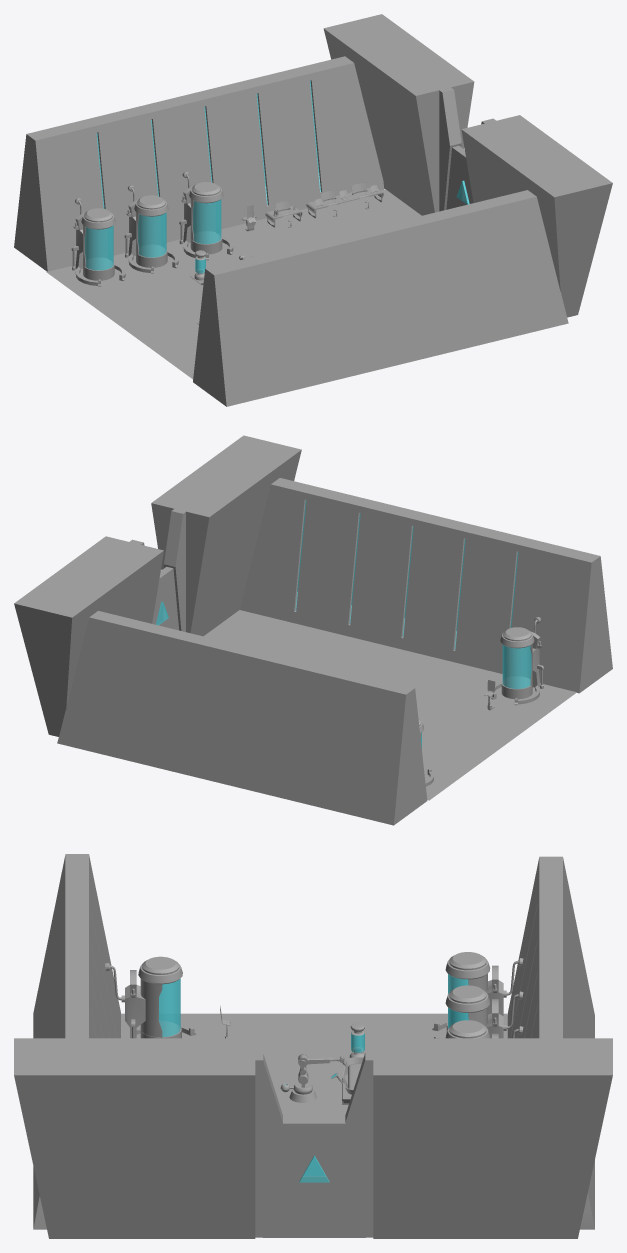
Rendered from L1_RM3_Models with UVs.fbx.
3 renders of one model, top to bottom at view 1: azimuth 30°, elevation 25°; view 2: azimuth 150°, elevation 25°; view 3: azimuth 270°, elevation 25°, orthographic. The views are drawn at different scales.
Visible parts, largest first — view 1: L1_RM3_walls_right, L1_RM3_walls_left, L1_RM3_door_left_wall3, L1_RM03_ground, L1_RM3_door_right_wall2, L1_RM3_cultivation_tanks_style06_cultivation_tanks_style06_f (×3), L1_RM3_cultivation_tanks_style06_glass (×3), L1_RM3_door_left1, L1_RM3_walls_light, L1_RM3_table_style03_table; view 2: L1_RM3_walls_left, L1_RM3_walls_right, L1_RM03_ground, L1_RM3_door_right_wall2, L1_RM3_door_left_wall3, L1_RM3_cultivation_tanks_style06_cultivation_tanks_style06_f, L1_RM3_cultivation_tanks_style06_glass, L1_RM3_door_right1, L1_RM3_walls_light; view 3: L1_RM3_door_right_wall2, L1_RM3_door_left_wall3, L1_RM03_ground, L1_RM3_walls_right, L1_RM3_walls_left, L1_RM3_cultivation_tanks_style06_cultivation_tanks_style06_f (×4), L1_RM3_door_right1, L1_RM3_door_left1, L1_RM3_dissection_table, L1_RM3_cultivation_tanks_style06_glass.
Part boxes in pixels (box(x1,y1,x2,y2)): L1_RM3_walls_right: box(193, 190, 568, 406); L1_RM3_walls_left: box(14, 56, 384, 271); L1_RM3_door_left_wall3: box(323, 14, 474, 215); L1_RM03_ground: box(46, 189, 421, 379); L1_RM3_door_right_wall2: box(461, 115, 612, 317); L1_RM3_cultivation_tanks_style06_cultivation_tanks_style06_f (×3): box(71, 171, 233, 286); L1_RM3_cultivation_tanks_style06_glass (×3): box(85, 199, 221, 270); L1_RM3_door_left1: box(446, 145, 468, 209); L1_RM3_walls_light: box(96, 80, 320, 208); L1_RM3_table_style03_table: box(306, 188, 383, 218); L1_RM3_walls_left: box(57, 611, 427, 825); L1_RM3_walls_right: box(239, 478, 612, 693); L1_RM03_ground: box(203, 610, 576, 800); L1_RM3_door_right_wall2: box(151, 435, 301, 636); L1_RM3_door_left_wall3: box(14, 536, 163, 736); L1_RM3_cultivation_tanks_style06_cultivation_tanks_style06_f: box(490, 617, 543, 705); L1_RM3_cultivation_tanks_style06_glass: box(502, 644, 531, 688); L1_RM3_door_right1: box(156, 566, 179, 630); L1_RM3_walls_light: box(295, 500, 518, 649); L1_RM3_door_right_wall2: box(14, 1038, 282, 1238); L1_RM3_door_left_wall3: box(345, 1038, 612, 1238); L1_RM03_ground: box(121, 1013, 506, 1176); L1_RM3_walls_right: box(33, 854, 120, 1229); L1_RM3_walls_left: box(507, 856, 594, 1229); L1_RM3_cultivation_tanks_style06_cultivation_tanks_style06_f (×4): box(105, 952, 523, 1038); L1_RM3_door_right1: box(263, 1119, 314, 1237); L1_RM3_door_left1: box(314, 1119, 365, 1237); L1_RM3_dissection_table: box(331, 1023, 364, 1104); L1_RM3_cultivation_tanks_style06_glass: box(159, 978, 180, 1037).
Size of the model in its own units: 3235 by 1128 by 3416.
